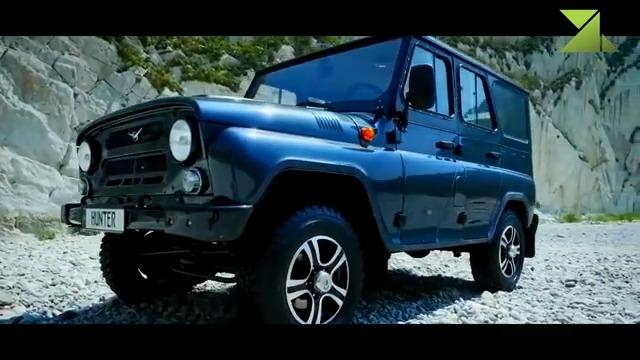MIL_HMMWV: (60, 35, 539, 325)
